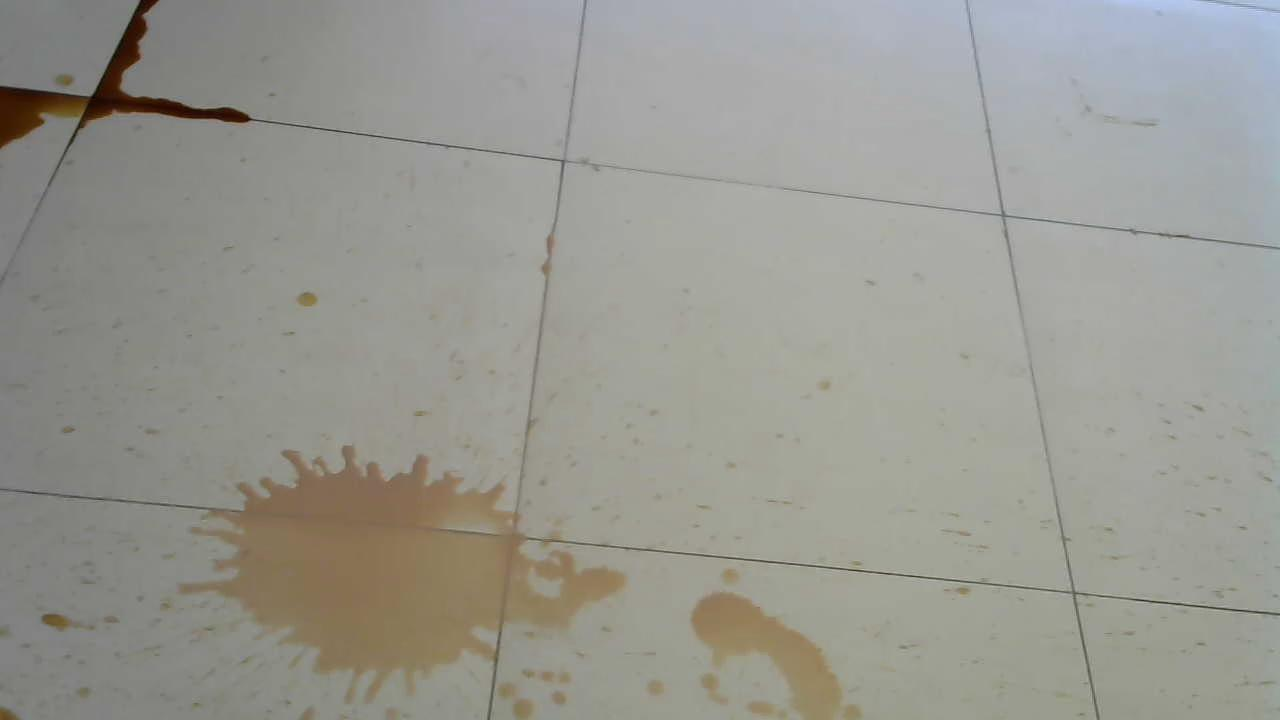dirty_floor: (169, 440, 627, 715), (10, 19, 258, 143), (685, 564, 878, 715)
